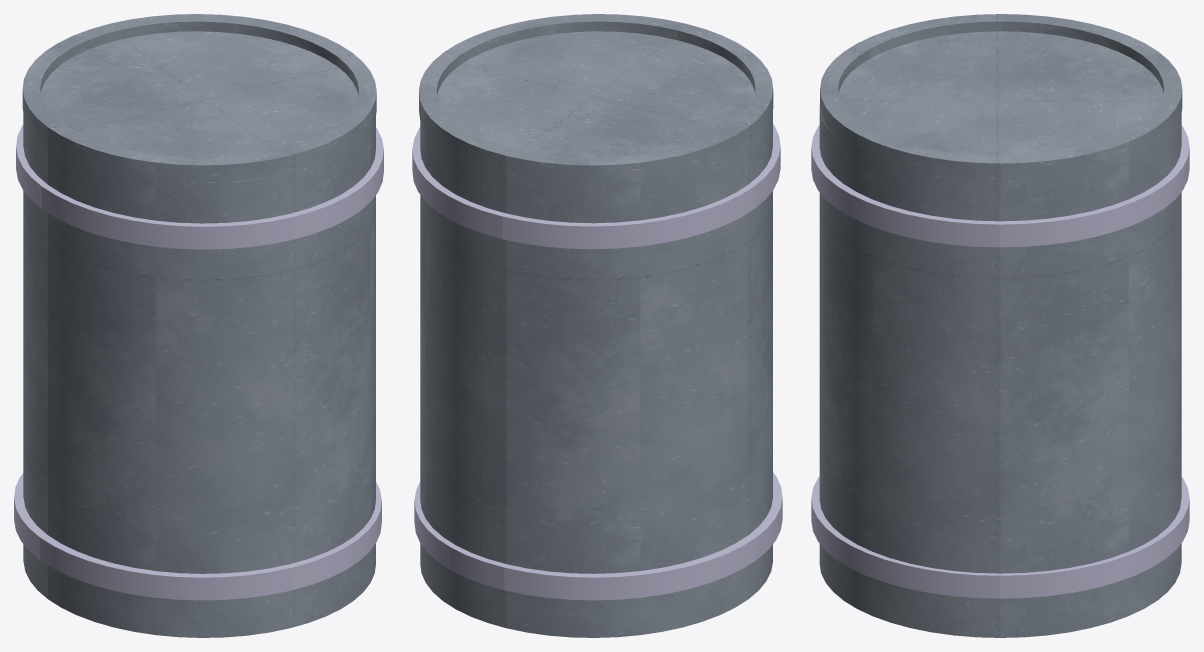
File: Barrel.fbx
3 renders of one model, left to right at view 1: azimuth 30°, elevation 25°; view 2: azimuth 150°, elevation 25°; view 3: azimuth 270°, elevation 25°, orthographic.
Parts seen in each view (by area): view 1: mergedBlocks; view 2: mergedBlocks; view 3: mergedBlocks.
Part boxes in pixels (box(x1,y1,x2,y2)): mergedBlocks: box(14, 14, 383, 637); mergedBlocks: box(412, 14, 782, 637); mergedBlocks: box(811, 14, 1189, 637).
Size of the model in its own units: 9.31 by 13.21 by 9.53.
